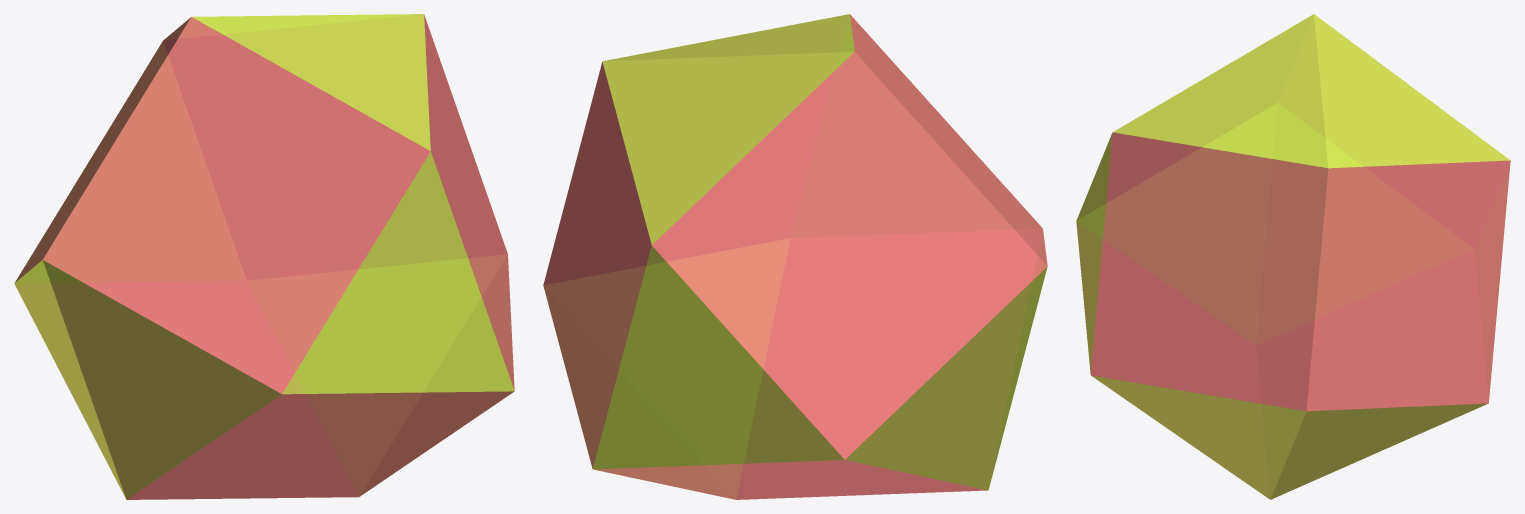
The model's file is j27_triangular_orthobicupola.obj.
3 renders of one model, left to right at view 1: azimuth 30°, elevation 25°; view 2: azimuth 150°, elevation 25°; view 3: azimuth 270°, elevation 25°, orthographic. The views are drawn at different scales.
Bounding box in the file's own units: 1.94 × 1.91 × 1.76.
